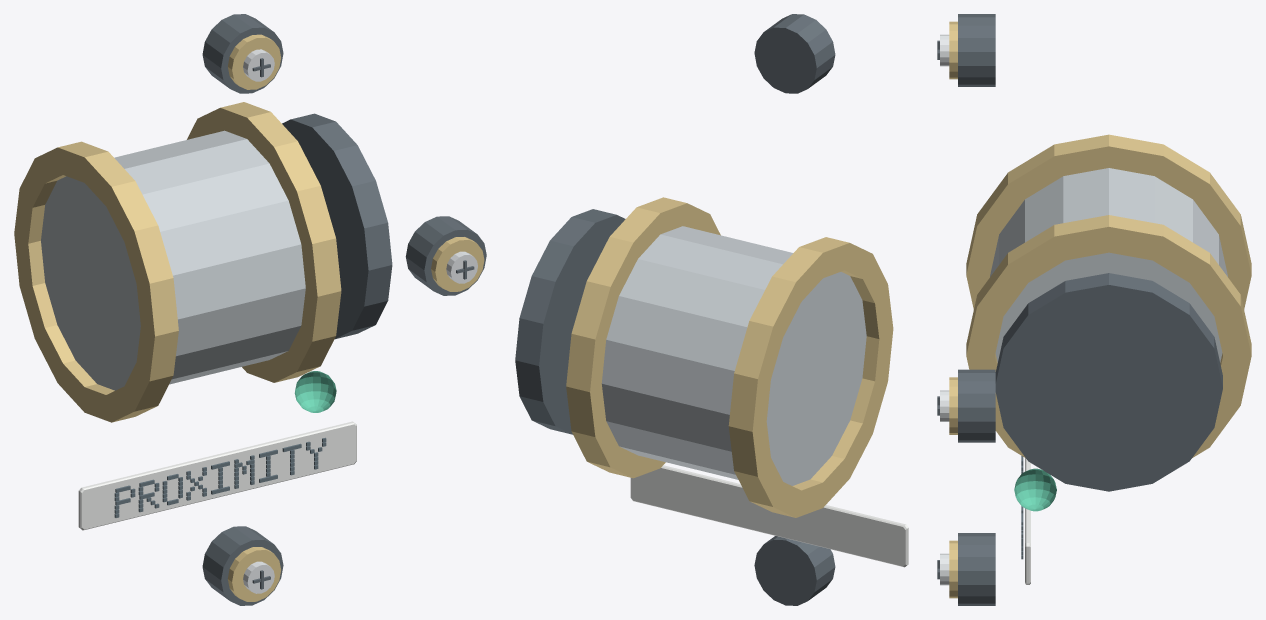
Rendered from proximitySensor.glb.
3 views of the same model, side by side, from view 1: azimuth 30°, elevation 25°; view 2: azimuth 150°, elevation 25°; view 3: azimuth 270°, elevation 25° (orthographic).
Parts seen in each view (by area): view 1: proximitySensor-preview; view 2: proximitySensor-preview; view 3: proximitySensor-preview.
Boxes of the visible parts, x1,y1,x2,y2 form: proximitySensor-preview: (14, 14, 486, 605); proximitySensor-preview: (515, 14, 908, 605); proximitySensor-preview: (937, 14, 1251, 605).
Bounding box in the file's own units: 1.87 × 2.77 × 1.35.
